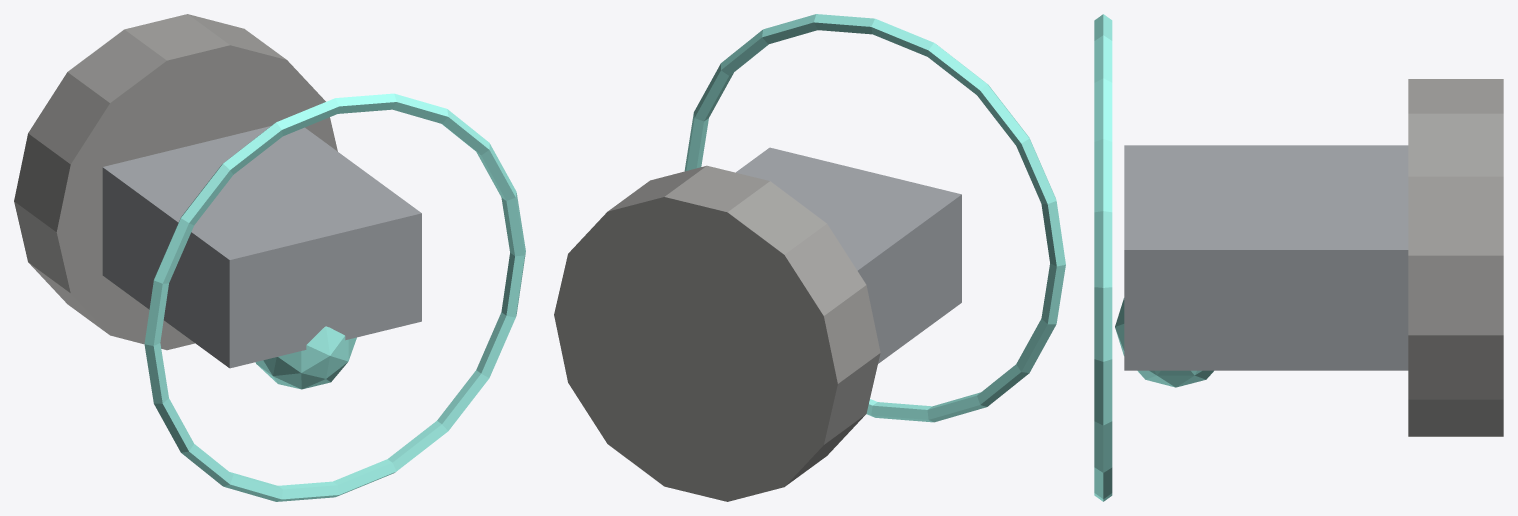
Rendered from 04_quest_or_system_interactable.glb.
3 renders of one model, left to right at view 1: azimuth 30°, elevation 25°; view 2: azimuth 150°, elevation 25°; view 3: azimuth 270°, elevation 25°, orthographic. The views are drawn at different scales.
Visible parts, largest first — view 1: control_or_relic_body, interaction_base, objective_ring, activation_core; view 2: interaction_base, control_or_relic_body, objective_ring; view 3: control_or_relic_body, interaction_base, objective_ring, activation_core.
Boxes of the visible parts, box(x1,y1,x2,y2) form: control_or_relic_body: box(102, 126, 421, 368); interaction_base: box(14, 14, 337, 350); objective_ring: box(144, 93, 525, 501); activation_core: box(255, 326, 356, 389); interaction_base: box(554, 165, 880, 501); control_or_relic_body: box(736, 147, 961, 363); objective_ring: box(684, 14, 1065, 422); control_or_relic_body: box(1124, 145, 1408, 370); interaction_base: box(1408, 79, 1503, 436); objective_ring: box(1094, 14, 1112, 501); activation_core: box(1115, 298, 1213, 387).
Bounding box in the file's own units: 1.29 × 1.29 × 1.07.
